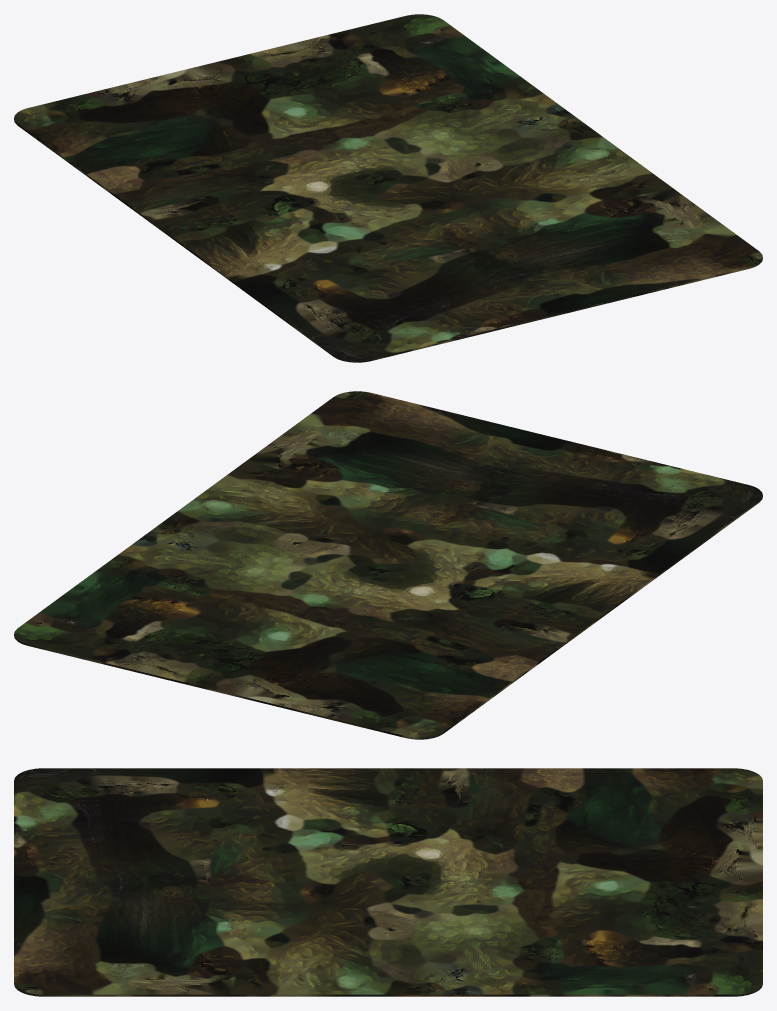
Rendered from card_example.fbx.
3 views of the same model, one above another, from view 1: azimuth 30°, elevation 25°; view 2: azimuth 150°, elevation 25°; view 3: azimuth 270°, elevation 25° (orthographic). The views are drawn at different scales.
Visible parts, largest first — view 1: Object_2; view 2: Object_2; view 3: Object_2.
Part boxes in pixels (x1=…): Object_2: x1=14, y1=14, x2=762, y2=362; Object_2: x1=14, y1=391, x2=762, y2=739; Object_2: x1=14, y1=768, x2=762, y2=996.
Size of the model in its own units: 104 by 0.4203 by 146.
